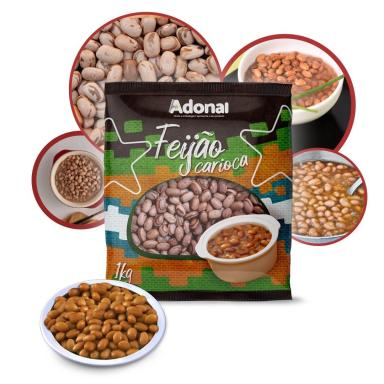beans package: (105, 83, 292, 300)
